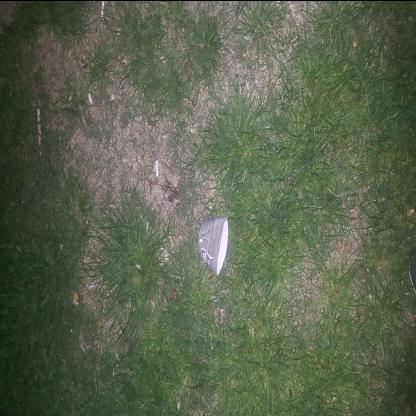karton: (140, 197, 202, 228)
